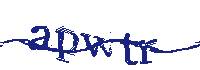a: (29, 22, 53, 53)
p: (57, 24, 79, 66)
r: (138, 37, 158, 65)
t: (122, 29, 136, 68)
w: (80, 28, 116, 58)
